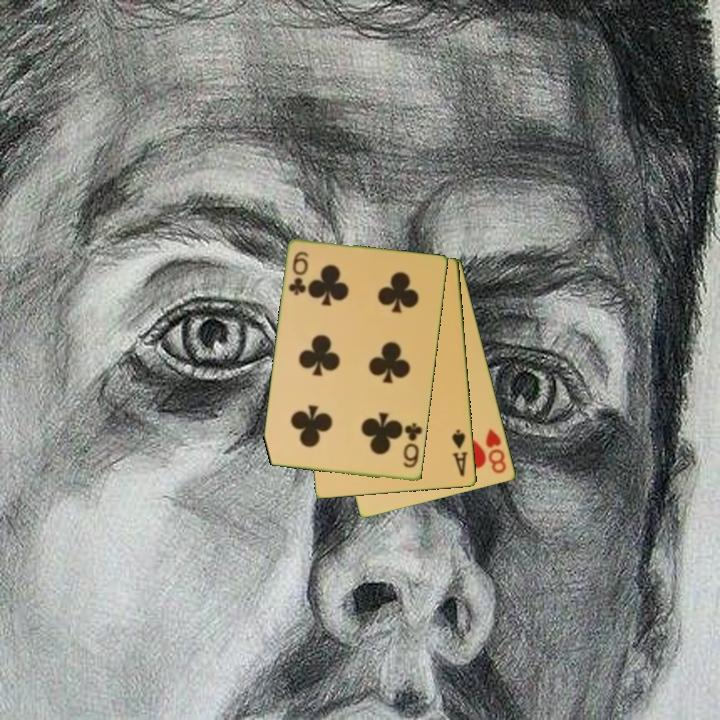6c: (400, 419, 425, 471), (285, 248, 311, 298)
8h: (482, 425, 510, 477)
As: (449, 426, 471, 480)
